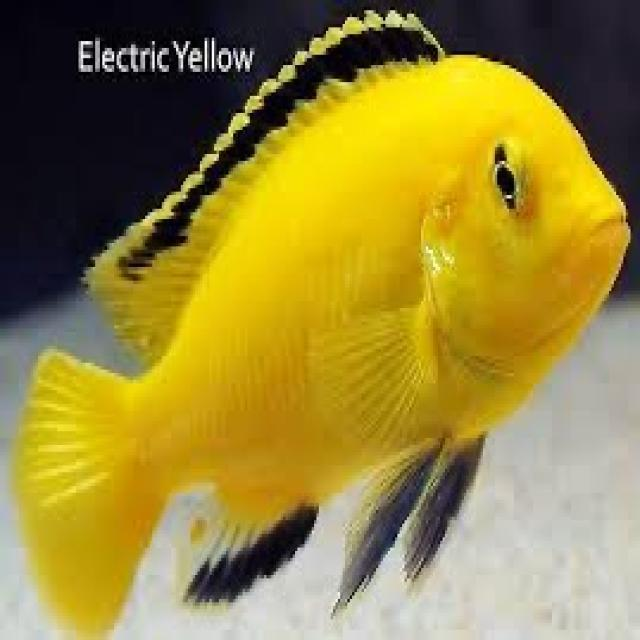YellowCichlid: (13, 12, 626, 622)
